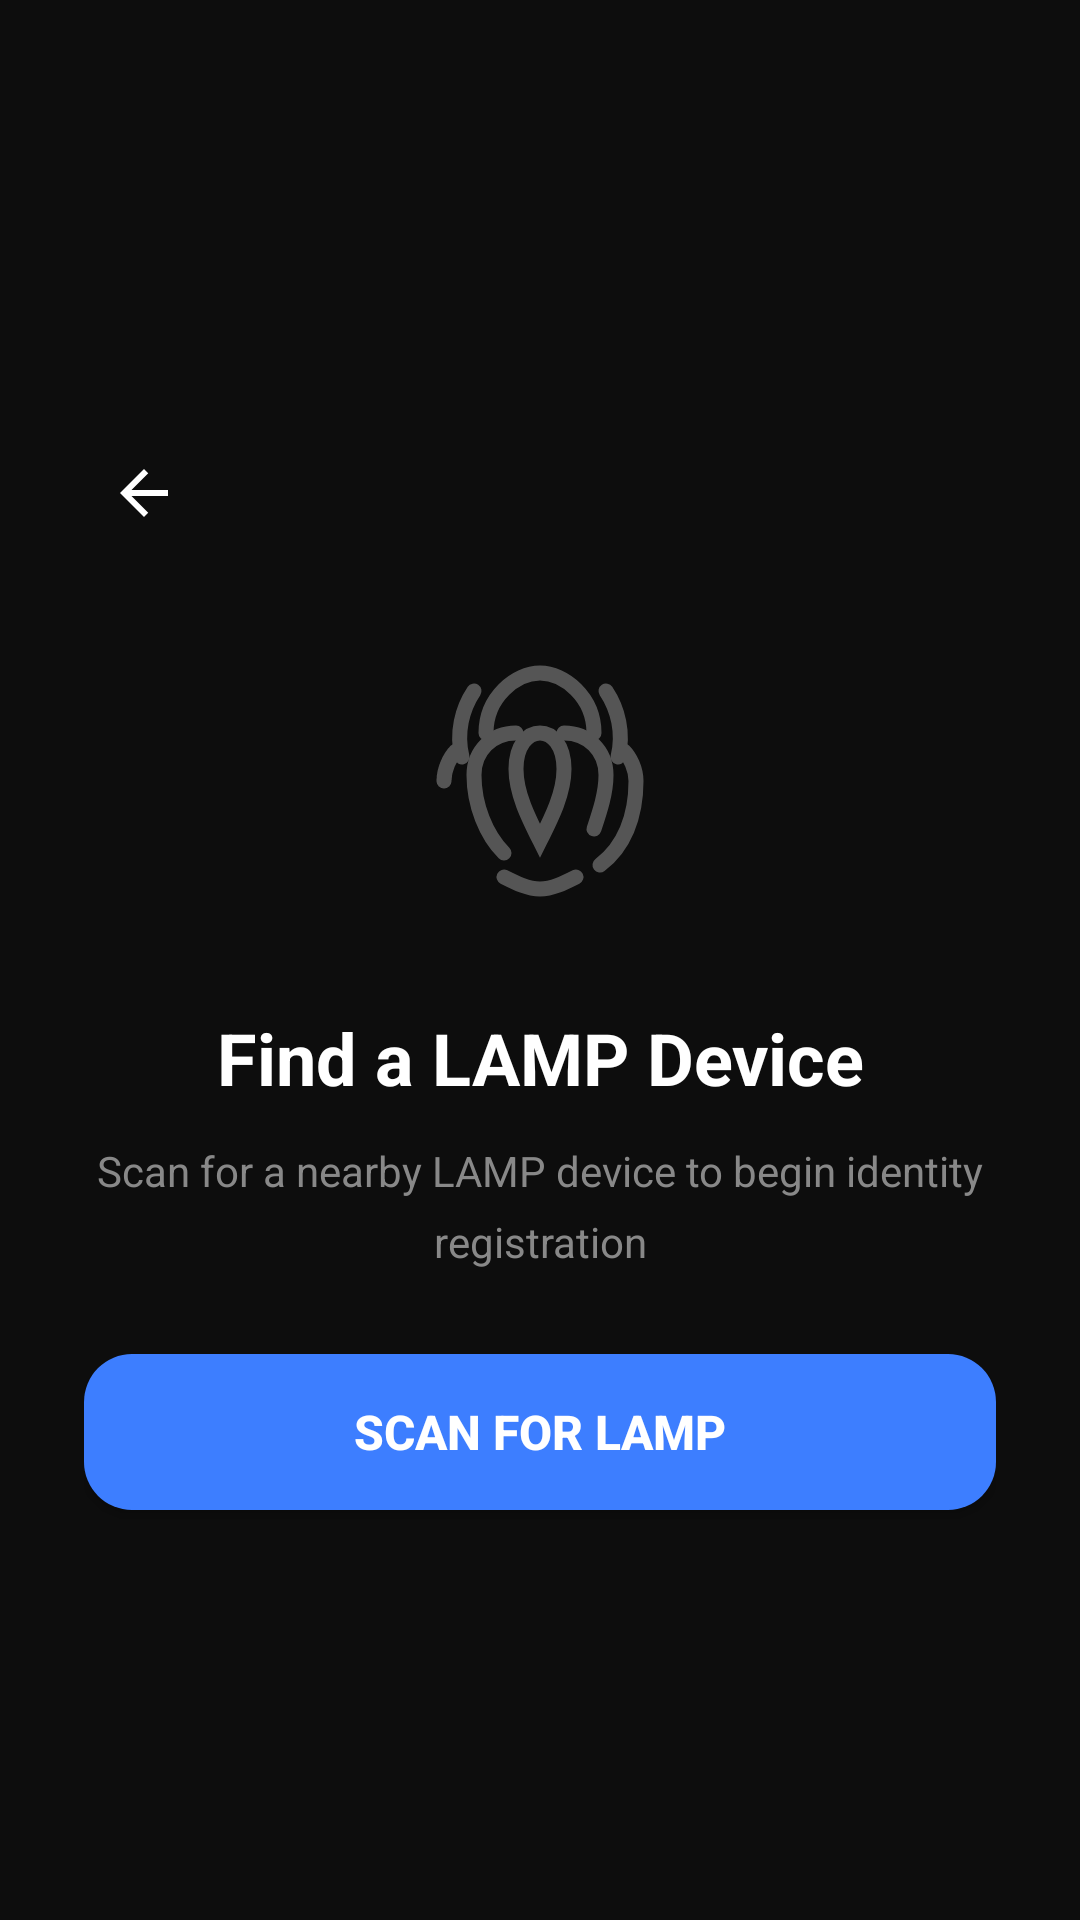

Icon bounding boxes for this 1080×1920 phone screenshot, format (x1,y1,x2,y2):
Back: (120,469,168,517)
Fingerprint: (436,665,644,897)
